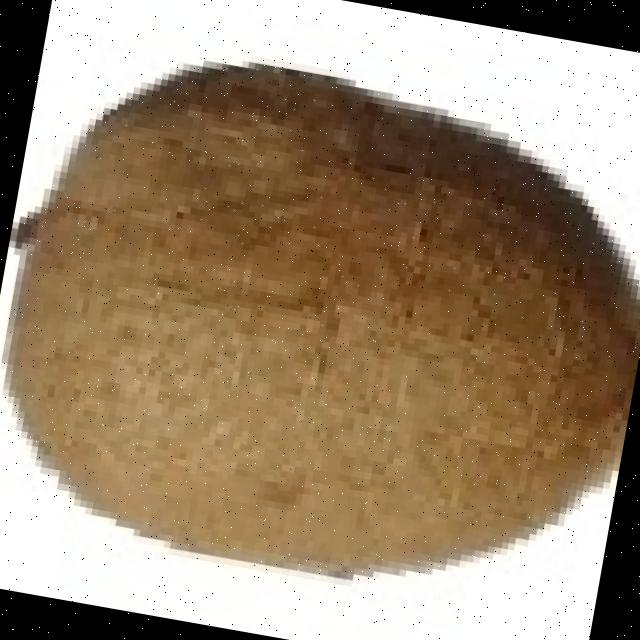kiwi: (0, 75, 631, 578)
